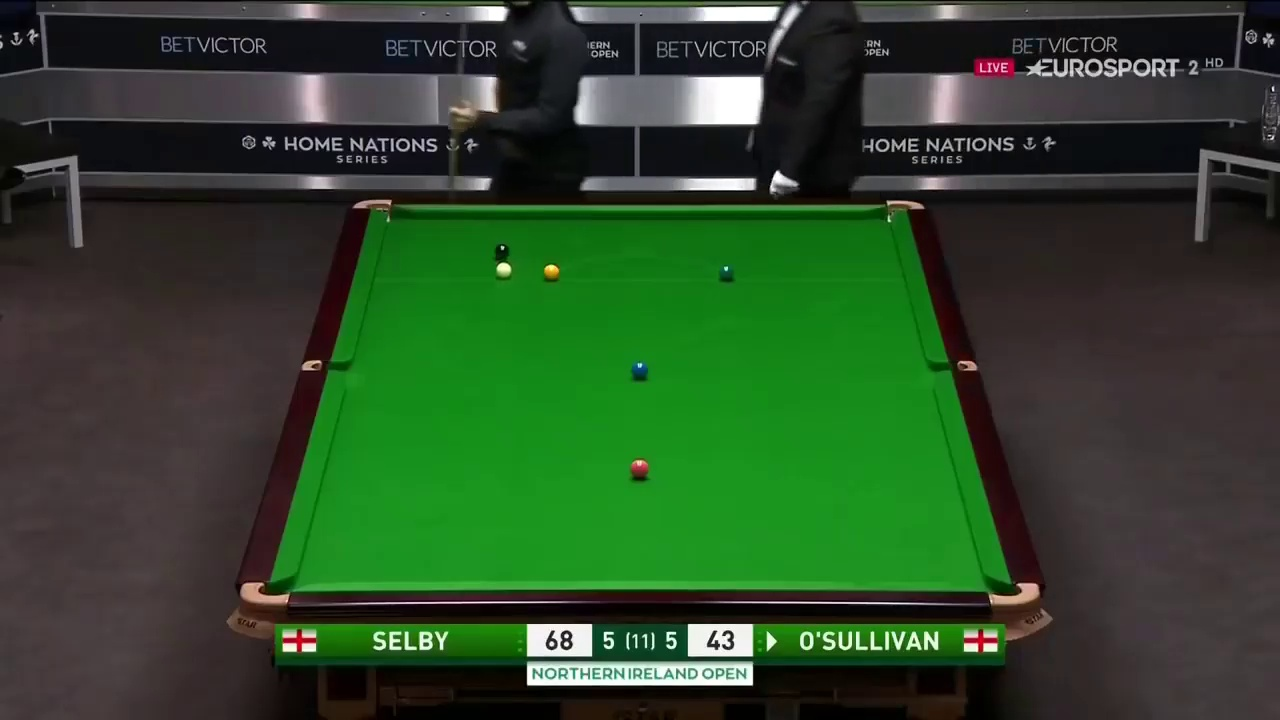ball: (541, 259, 561, 282), (629, 459, 649, 478), (494, 240, 510, 258), (496, 261, 512, 278), (633, 359, 649, 376), (718, 264, 734, 280)
